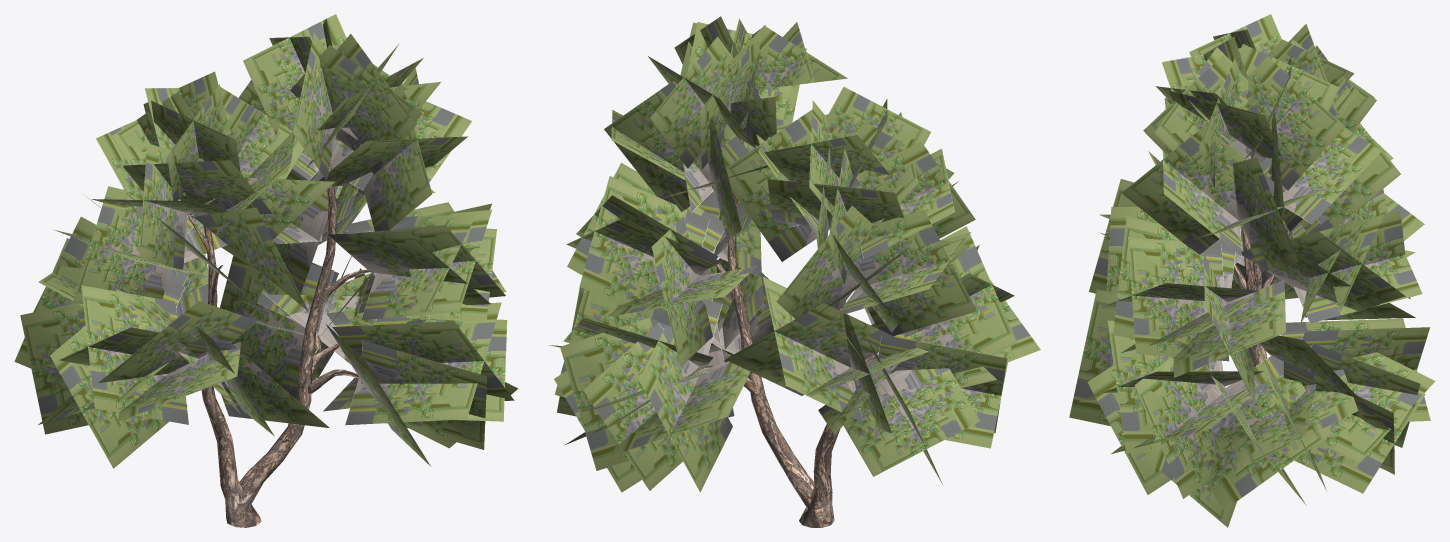
The model's file is cay-dau-co-thu-05.glb.
The picture shows the model from 3 angles, left to right: view 1: azimuth 30°, elevation 25°; view 2: azimuth 150°, elevation 25°; view 3: azimuth 270°, elevation 25°; orthographic projection. The views are drawn at different scales.
Visible parts, largest first — view 1: Tree_05; view 2: Tree_05; view 3: Tree_05.
Boxes of the visible parts, box(x1,y1,x2,y2) form: Tree_05: box(14, 14, 518, 527); Tree_05: box(548, 16, 1040, 527); Tree_05: box(1069, 14, 1435, 527).
Bounding box in the file's own units: 31.67 × 33.23 × 23.91.
Materials: 1 (1 with a texture image).
